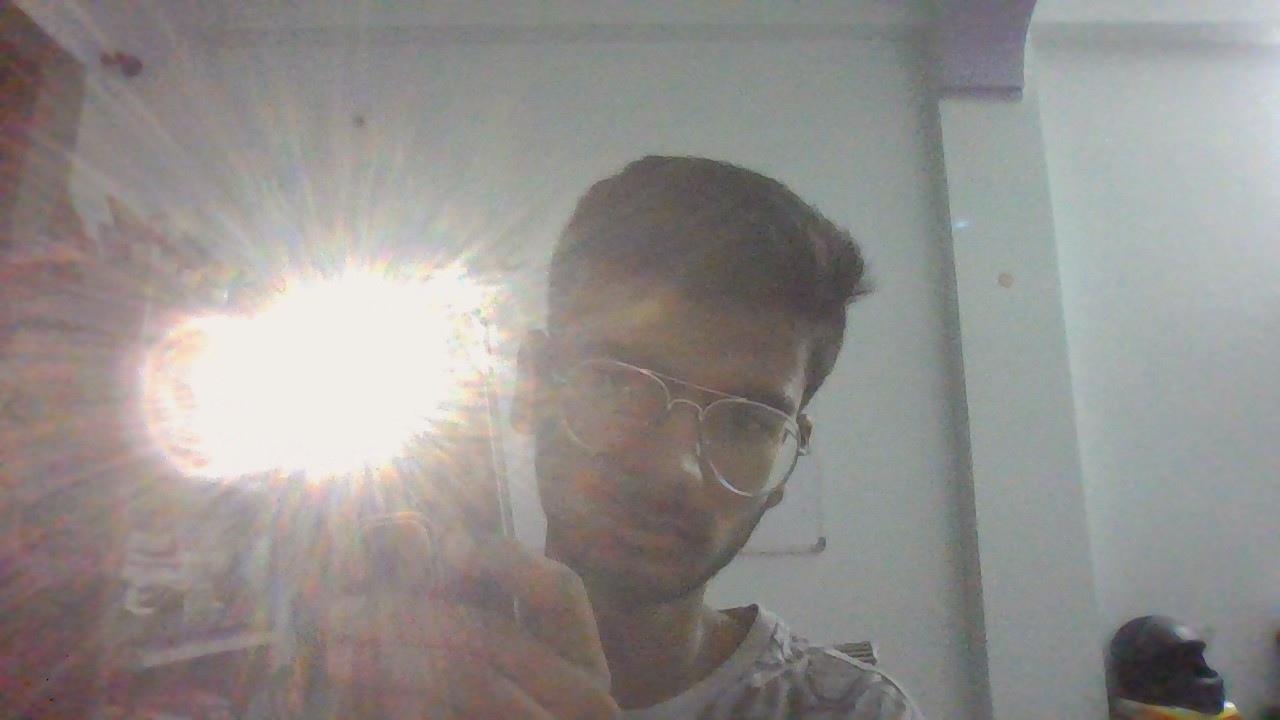Glare: (144, 258, 490, 463)
